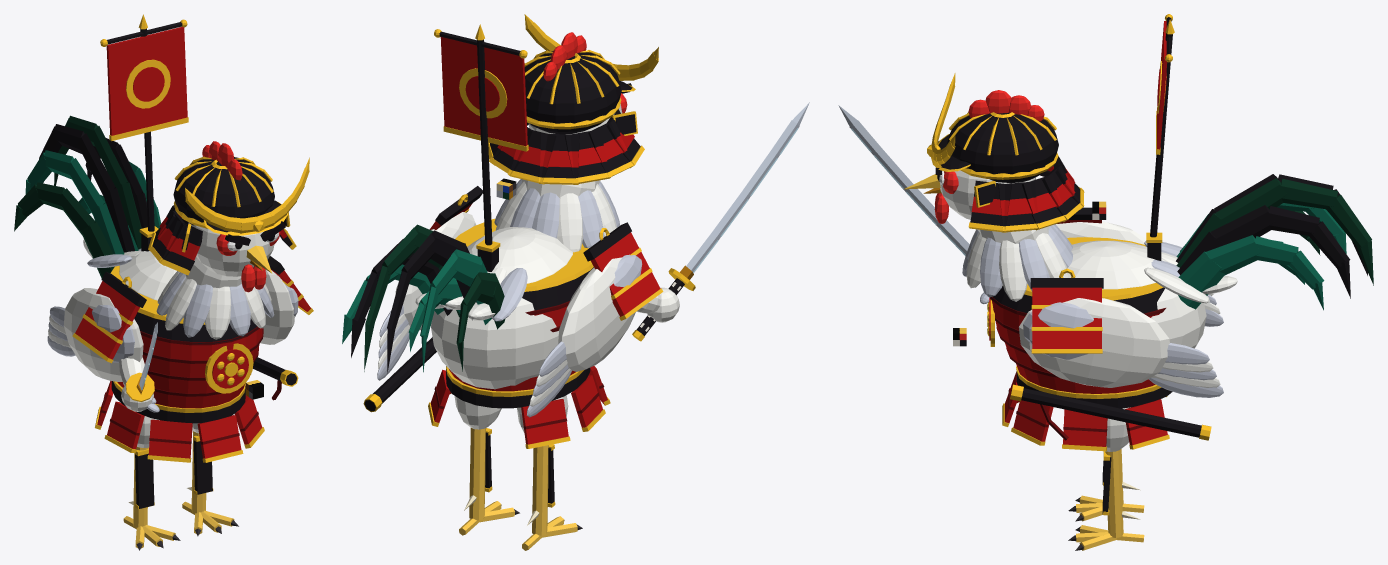
File: GalloSamurai.fbx
3 renders of one model, left to right at view 1: azimuth 30°, elevation 25°; view 2: azimuth 150°, elevation 25°; view 3: azimuth 270°, elevation 25°, orthographic. The views are drawn at different scales.
Visible parts, largest first — view 1: Cabeza, Cuerpo, Cola, Bandera, AlaDer, PataDer, AlaIzq, PataIzq; view 2: Cuerpo, Cabeza, AlaDer, Cola, Bandera, PataIzq, AlaIzq, PataDer; view 3: Cabeza, Cuerpo, AlaIzq, Cola, AlaDer, PataIzq, Bandera, PataDer.
Part boxes in pixels (x1,y1,x2,y2): Cabeza: (148,141,309,339); Cuerpo: (87,248,298,462); Cola: (14,115,160,278); Bandera: (100,14,188,251); AlaDer: (47,272,159,412); PataDer: (120,402,180,550); AlaIzq: (260,256,313,344); PataIzq: (182,423,238,536); Cuerpo: (363,218,610,448); Cabeza: (488,14,658,252); AlaDer: (527,102,809,417); Cola: (342,224,505,373); Bandera: (434,24,528,271); PataIzq: (454,396,519,535); AlaIzq: (377,186,482,380); PataDer: (517,395,582,550); Cabeza: (904,73,1084,301); Cuerpo: (987,237,1211,451); AlaIzq: (1018,268,1223,397); Cola: (1176,174,1373,310); AlaDer: (838,105,1223,326); PataIzq: (1068,407,1144,550); Bandera: (1146,14,1174,260); PataDer: (1068,449,1144,521).
Size of the model in its own units: 427 by 806 by 769.
Materials: 2 (2 with a texture image).
